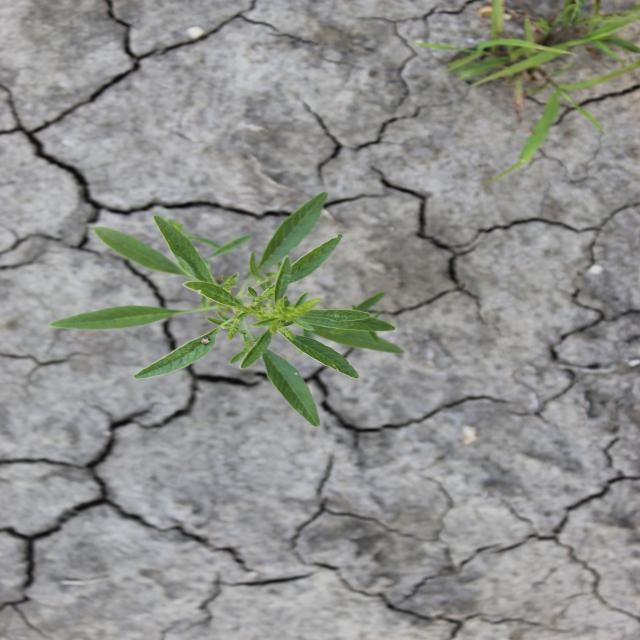Waterhemp: (44, 190, 407, 429)
